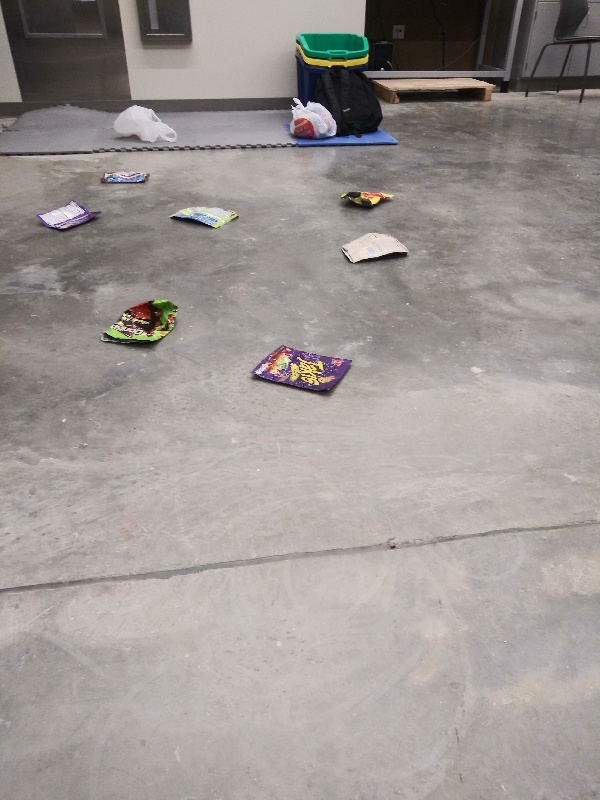bag: (247, 342, 358, 396), (100, 293, 184, 349), (338, 230, 414, 265), (32, 200, 106, 234), (166, 204, 243, 230), (338, 189, 402, 212), (96, 168, 153, 188)
